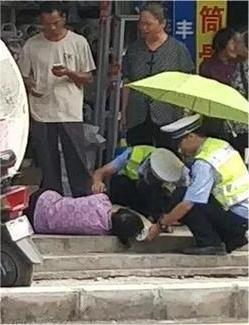bending: (146, 111, 249, 250), (94, 143, 187, 231)
down: (22, 180, 137, 258)
up: (18, 2, 103, 212), (118, 1, 195, 155)
